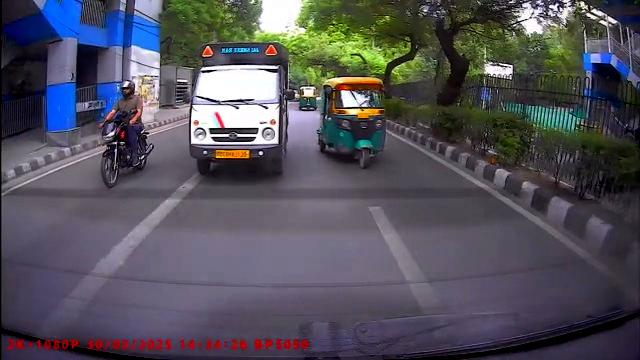motorcycle_with_helmet: (99, 75, 154, 190)
